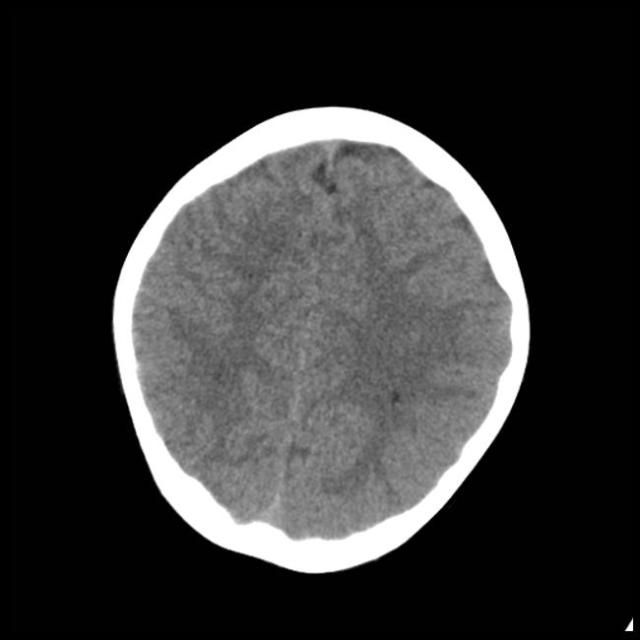lesion: (111, 107, 533, 573)
